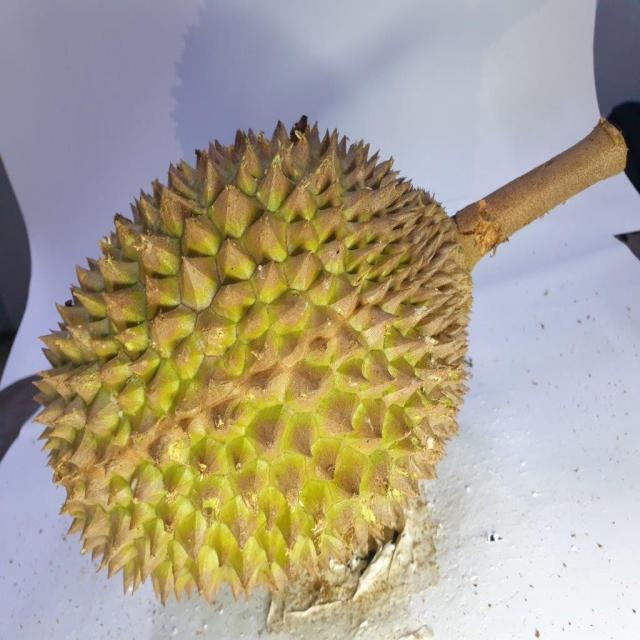immature: (34, 112, 477, 601)
